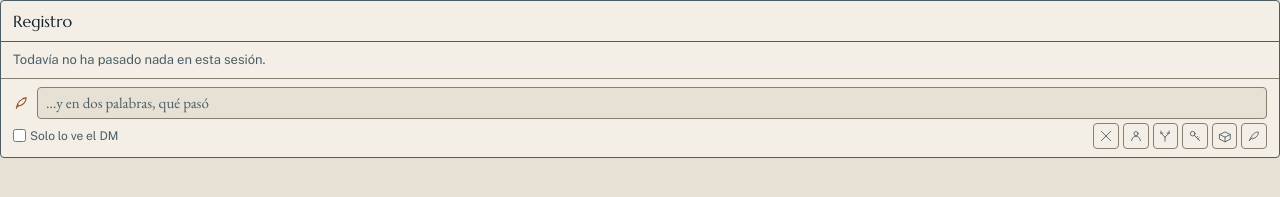
HiloDeSesion — un sello sin texto avisa en vez de apagarse › pulsar «Combate» sin escribir nada escribe el aviso en línea, enfoca la caja y no sella
The width and height of the screenshot is (1280, 197).
Click the button named "Combate" at point(1106, 136), box [1093, 123, 1119, 149]
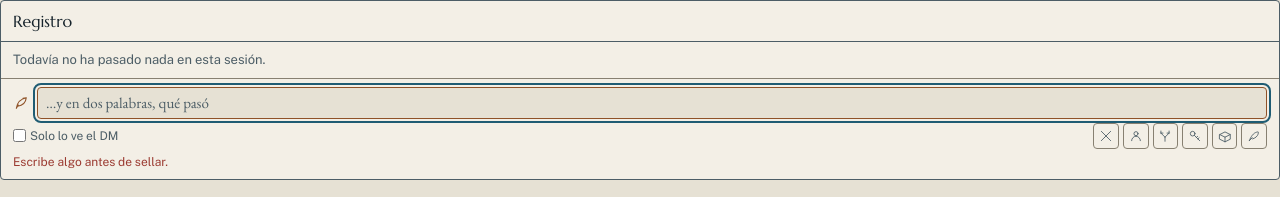
Now the message reads "Escribe algo antes de sellar.", box [13, 155, 168, 169]
